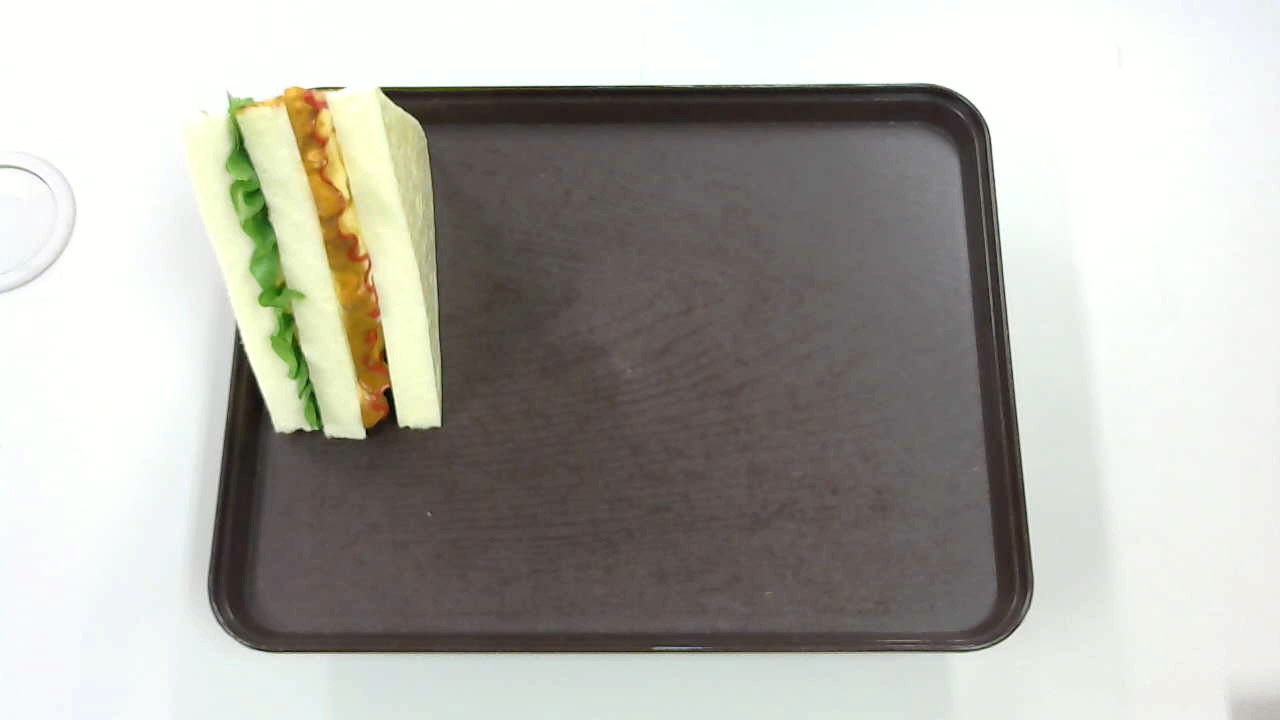sandwich: (176, 80, 443, 442)
